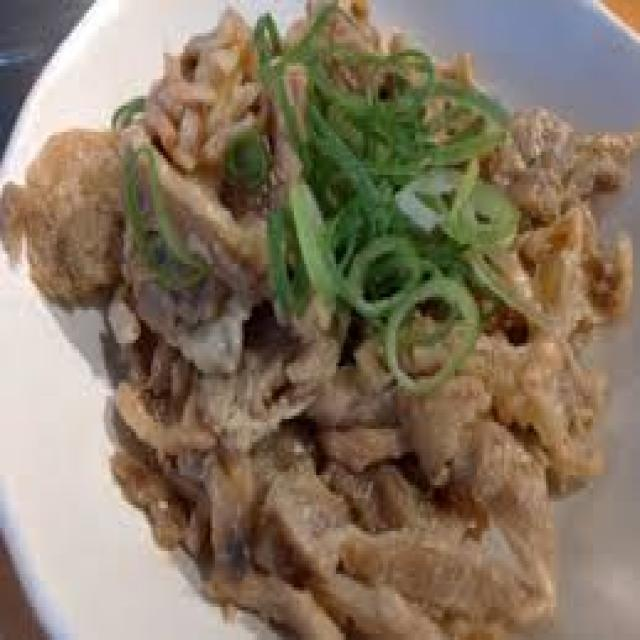food_waste: (0, 0, 638, 637)
